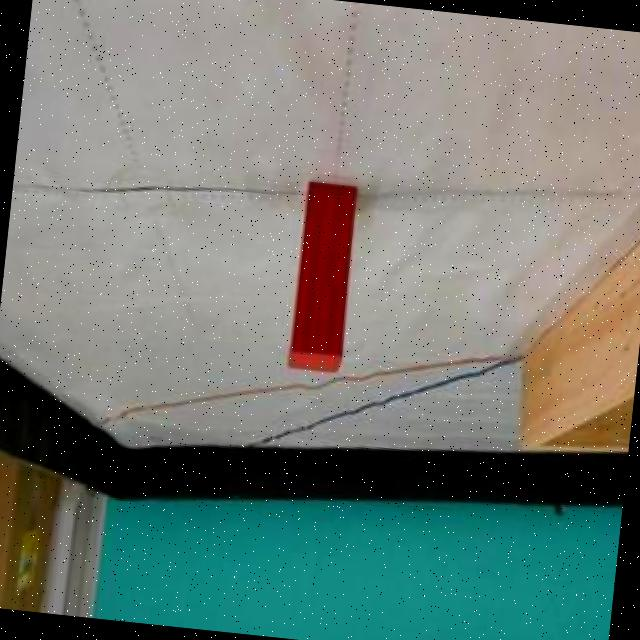redbox: (286, 178, 360, 376)
